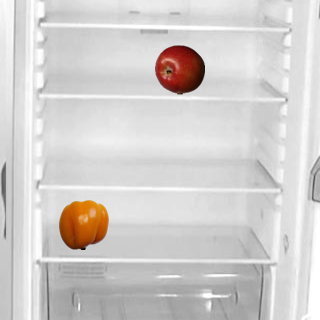Apple Braeburn: (154, 44, 204, 94)
Pepper Yellow: (58, 199, 108, 249)
